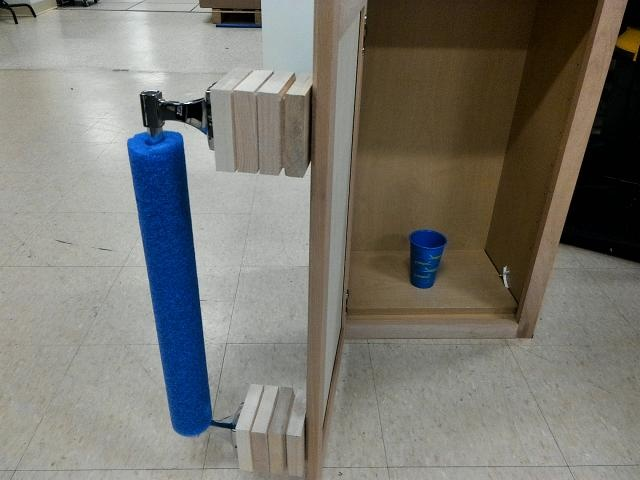noodle_handle: (124, 126, 221, 438)
water_cup: (402, 222, 453, 300)
